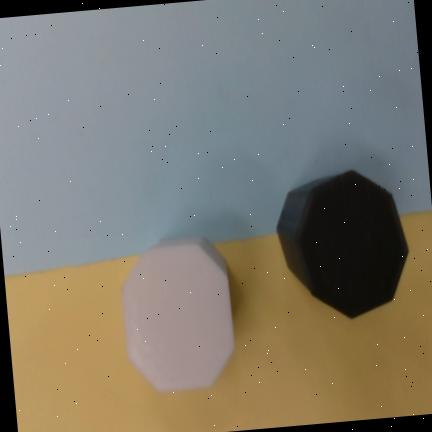Prisma_hexagonal: (276, 169, 410, 320), (122, 237, 234, 391)
